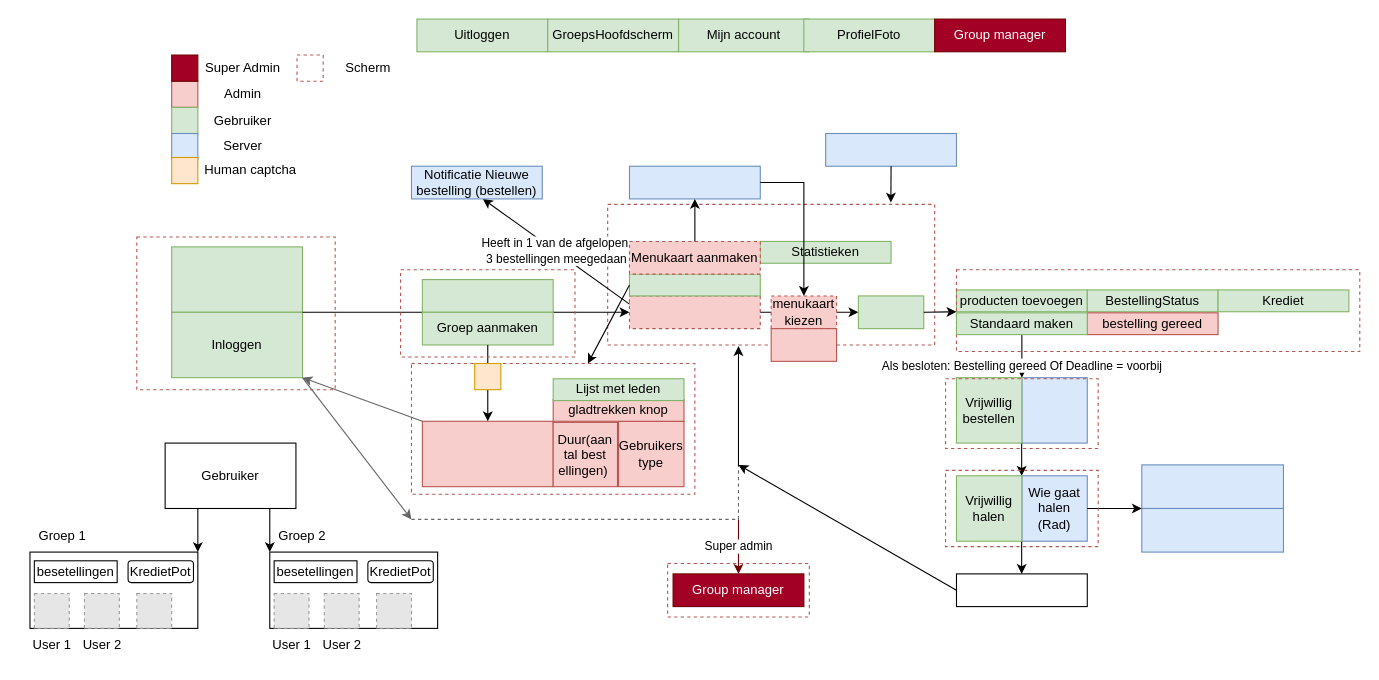
Some shapes in this 1379 by 680 pixel diagram are drawn without their labels. Grey dashed boxes stand in for pictures. Each missing label, with the centre of its shape:
"Account aanmaken" goes at (236,279).
"afhandeling" goes at (1021,590).
"Bestaande menukaarten" goes at (694,182).
"Bestelling aanmaken" goes at (694,312).
"Bestelling selecteren" goes at (890,312).
"Deadline instellen" goes at (803,344).
"Groep selecteren" goes at (487,295).
"Groeps Hoofdscherm" goes at (890,149).
"Groepstatus" goes at (694,284).
"Je bent gekozen om te halen. Ga het halen." goes at (1212,529).
"Je bent nog nooit wezen halen notificatie." goes at (1212,486).
"Uitnodigingslink" goes at (487,453).
"Wie gaat bestellen (Rad)" goes at (1054,410).
